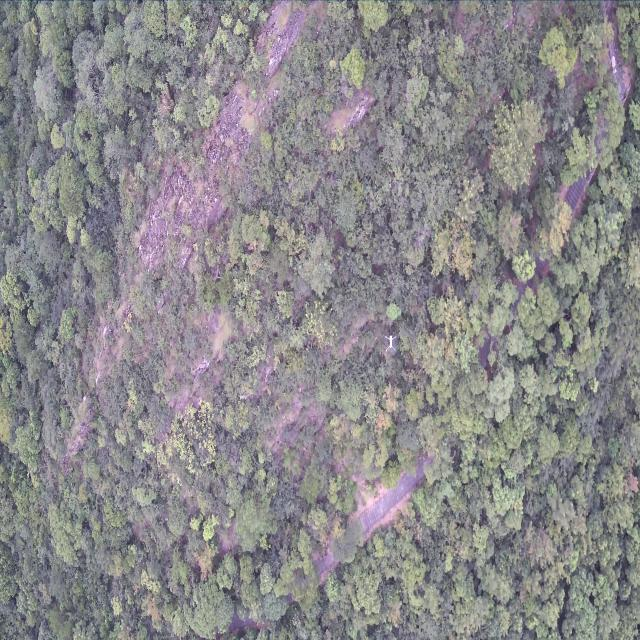UAV: (385, 334, 397, 352)
